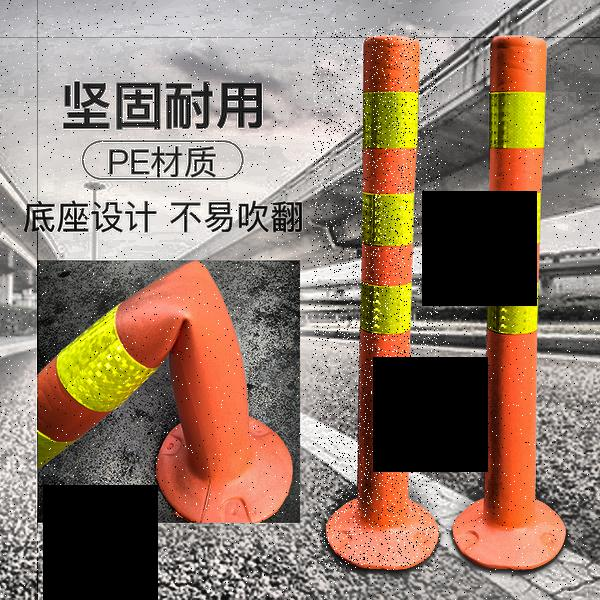bench: (312, 28, 441, 571)
